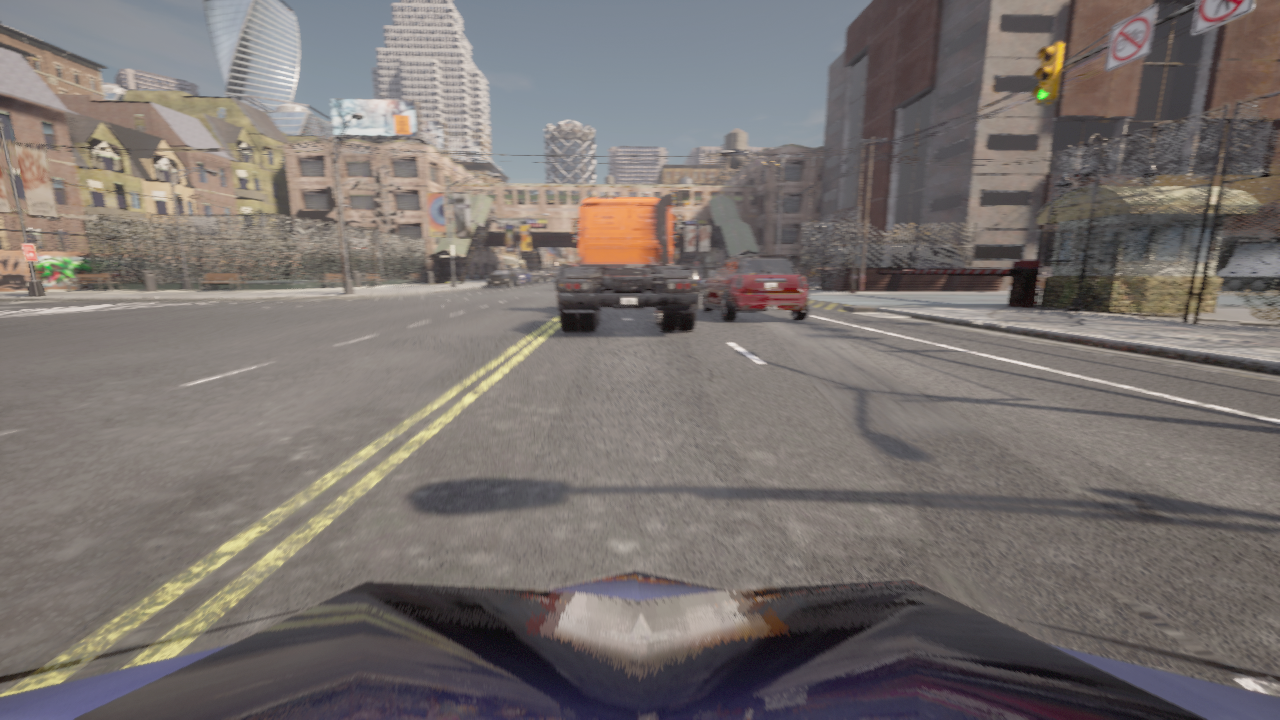cyclist: (0, 569, 1279, 719), (557, 193, 698, 331), (702, 254, 808, 320), (1217, 242, 1279, 291), (673, 265, 701, 292), (487, 269, 519, 287), (511, 268, 532, 285), (530, 270, 549, 283), (555, 274, 558, 290), (552, 272, 556, 278), (548, 273, 551, 276)
